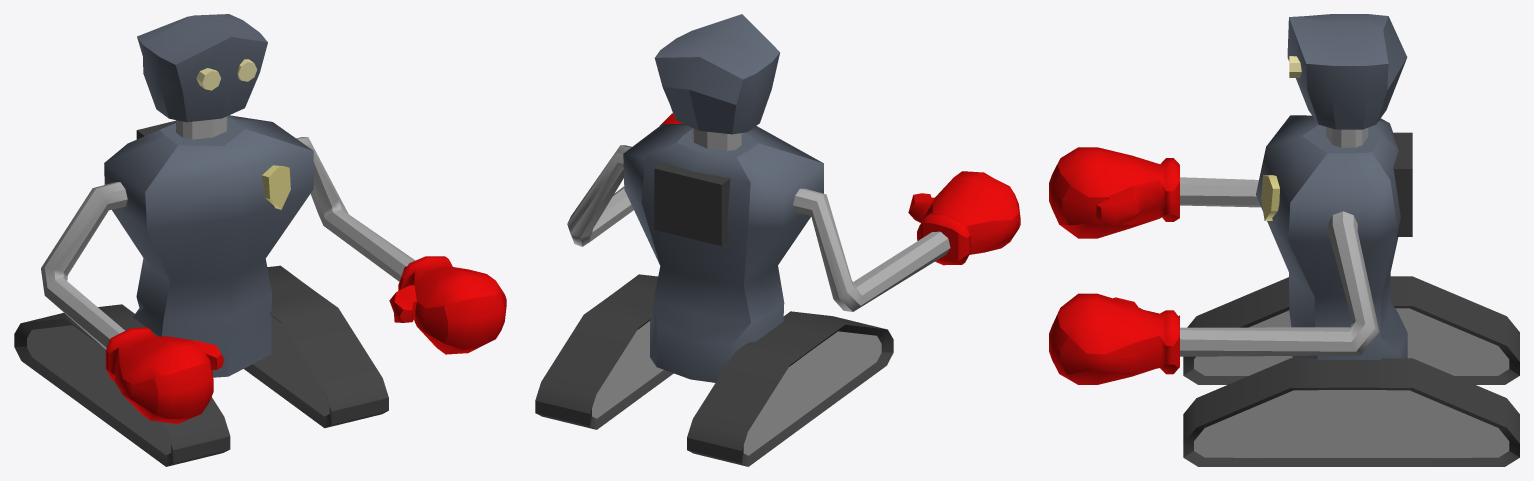
The model's file is EnemyLambert.fbx.
3 renders of one model, left to right at view 1: azimuth 30°, elevation 25°; view 2: azimuth 150°, elevation 25°; view 3: azimuth 270°, elevation 25°, orthographic. The views are drawn at different scales.
Visible parts, largest first — view 1: pCube1, pCube6, pasted__pCube2, pCube2, pCube3, pCylinder1, pasted__pCylinder1, pCube5; view 2: pCube1, pCube2, pasted__pCube2, pCube3, pCube6, pCylinder1, pCube4, pasted__pCylinder1; view 3: pasted__pCube2, pCube1, pCube6, pCube2, pCube3, pasted__pCylinder1, pCylinder1, pCube4, pCube5.
Boxes of the visible parts, x1=… form: pCube1: x1=104, y1=115, x2=313, y2=377; pCube6: x1=105, y1=256, x2=506, y2=423; pasted__pCube2: x1=244, y1=265, x2=388, y2=428; pCube2: x1=14, y1=304, x2=230, y2=466; pCube3: x1=137, y1=14, x2=267, y2=139; pCylinder1: x1=41, y1=182, x2=127, y2=349; pasted__pCylinder1: x1=296, y1=137, x2=415, y2=281; pCube5: x1=262, y1=165, x2=290, y2=209; pCube1: x1=623, y1=124, x2=823, y2=382; pCube2: x1=687, y1=311, x2=893, y2=466; pasted__pCube2: x1=535, y1=274, x2=673, y2=429; pCube3: x1=654, y1=14, x2=779, y2=150; pCube6: x1=660, y1=113, x2=1020, y2=265; pCylinder1: x1=793, y1=188, x2=950, y2=311; pCube4: x1=654, y1=162, x2=730, y2=246; pasted__pCylinder1: x1=567, y1=145, x2=633, y2=246; pasted__pCube2: x1=1183, y1=358, x2=1519, y2=466; pCube1: x1=1256, y1=115, x2=1407, y2=359; pCube6: x1=1049, y1=147, x2=1179, y2=384; pCube2: x1=1183, y1=276, x2=1519, y2=384; pCube3: x1=1287, y1=14, x2=1407, y2=147; pasted__pCylinder1: x1=1180, y1=211, x2=1379, y2=356; pCylinder1: x1=1180, y1=177, x2=1260, y2=207; pCube4: x1=1392, y1=132, x2=1412, y2=236; pCube5: x1=1261, y1=175, x2=1279, y2=220.
Size of the model in its own units: 13.96 by 13.25 by 14.33.
